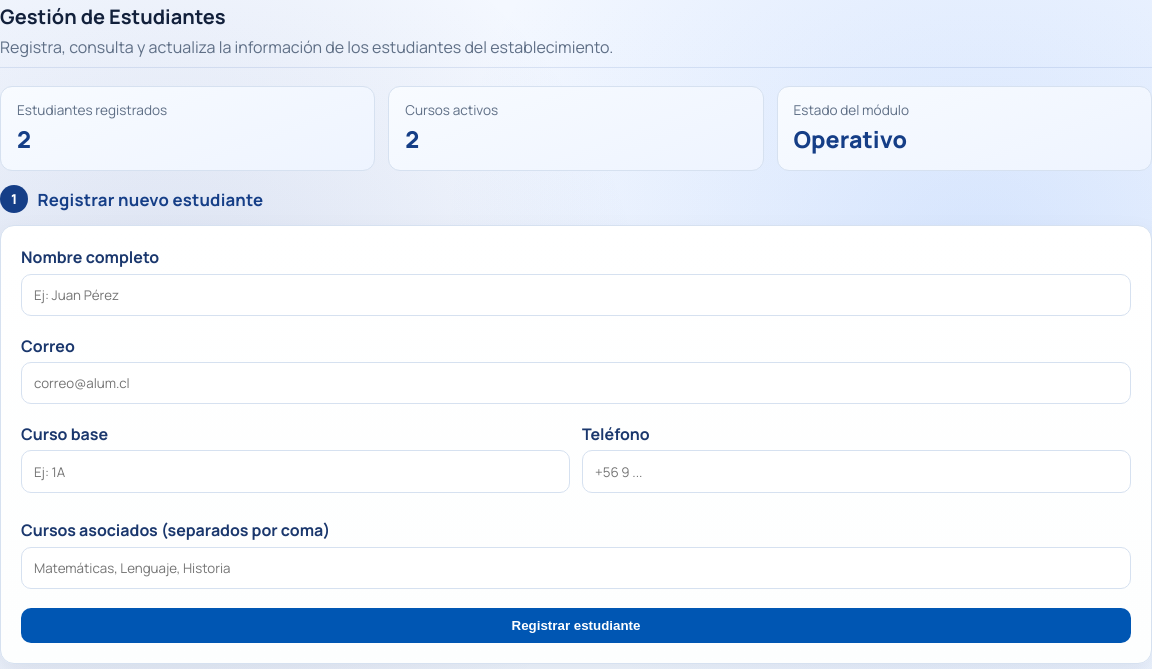
Test: Estudiantes — registro de nuevo estudiante › muestra error si el servicio falla al registrar
Type "Test" into the field with id "create-est-nombre" at (576, 295), box x1=21 y1=274 x2=1131 y2=316
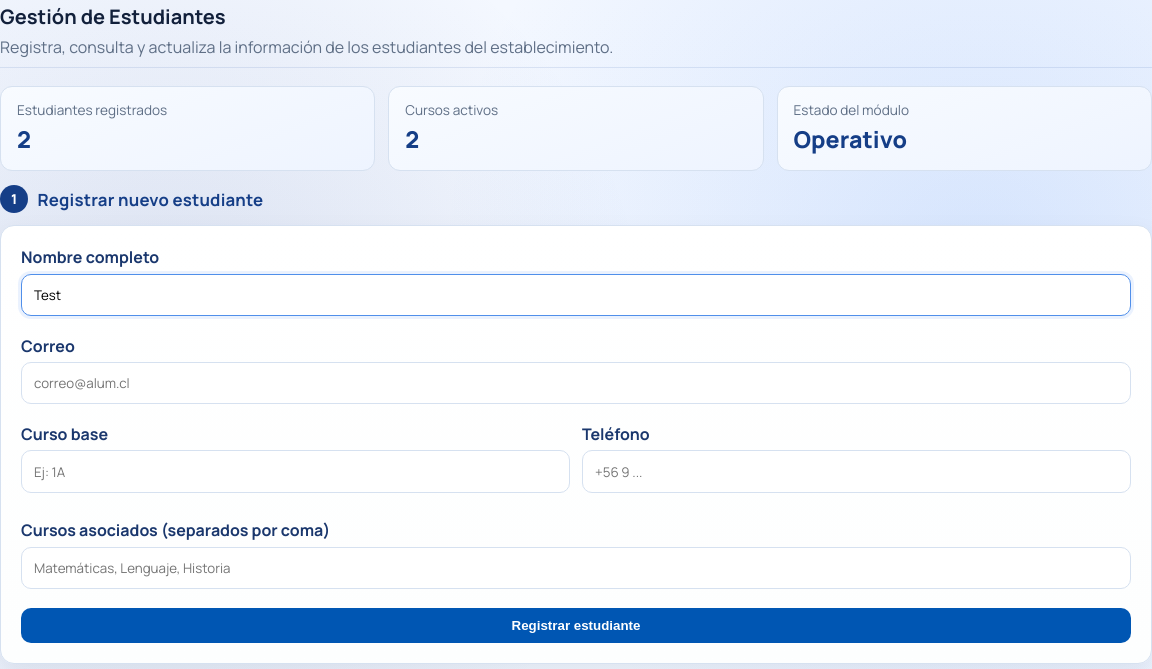
Type "test@alum.cl" into the field with id "create-est-correo" at (576, 383), box x1=21 y1=362 x2=1131 y2=404
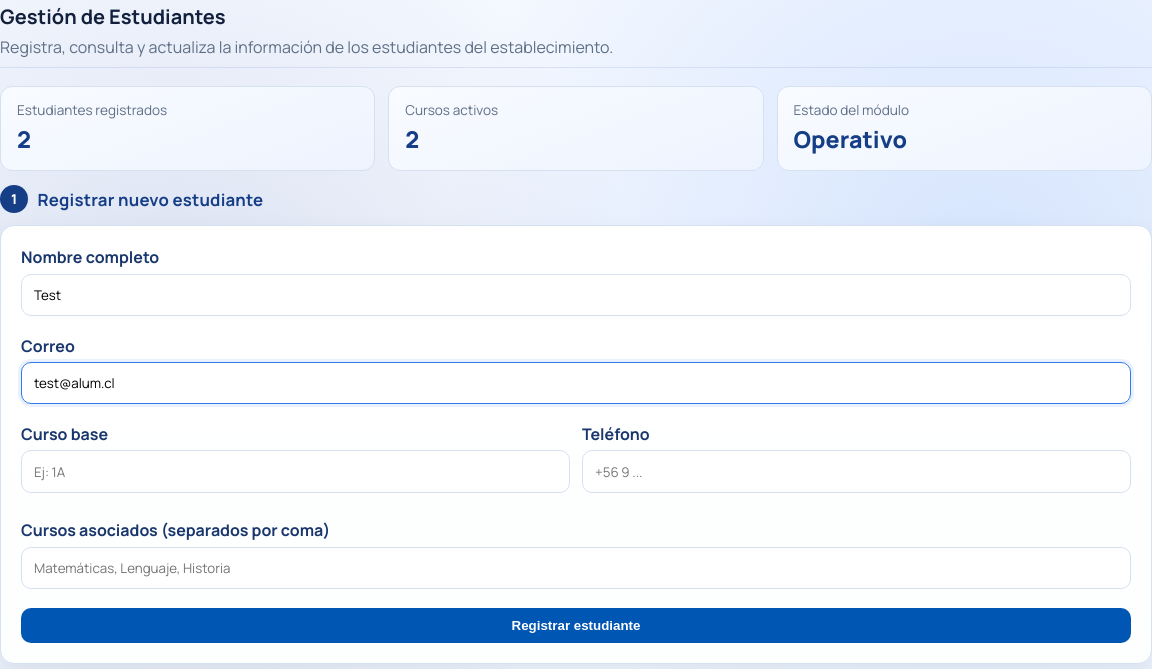
Type "1A" into the field with id "create-est-curso" at (296, 472), box x1=21 y1=450 x2=570 y2=493
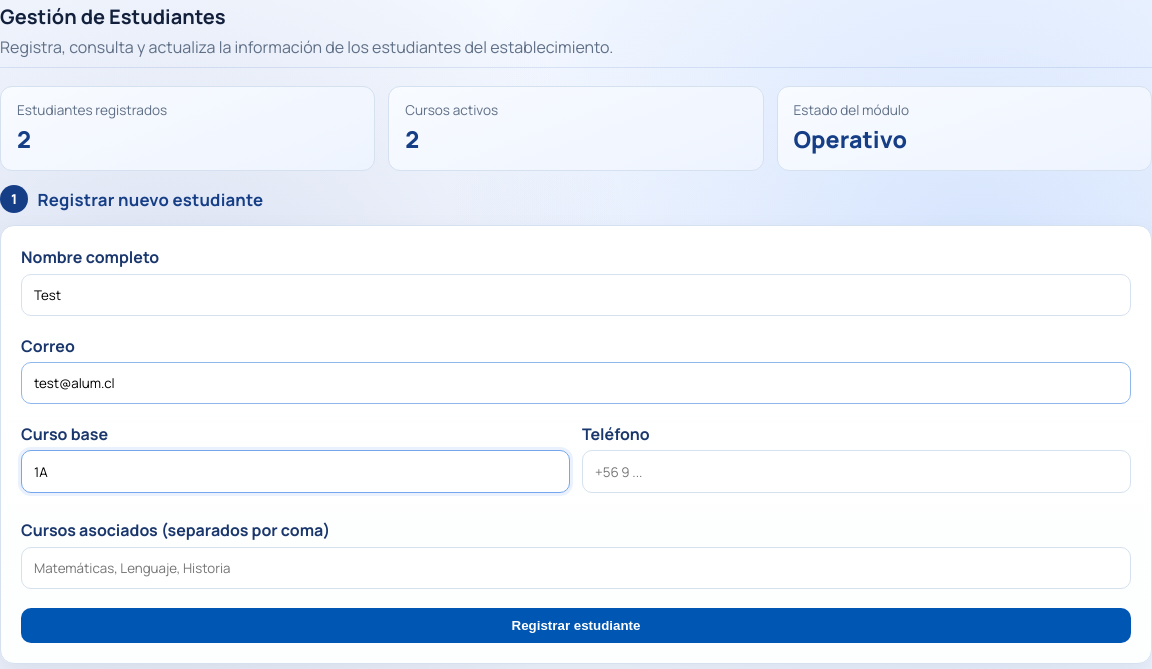
Click the button "Registrar estudiante" at (576, 626), box x1=21 y1=608 x2=1131 y2=643
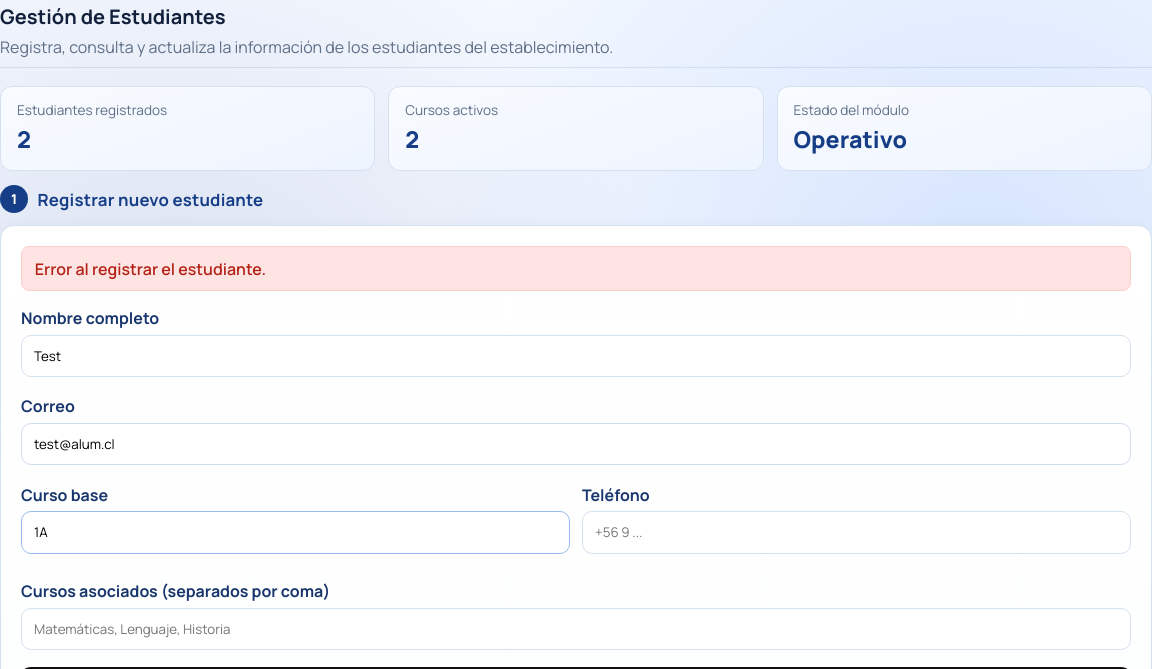
Now the text "Error al registrar el estudiante." is shown, box x1=21 y1=246 x2=1131 y2=291
